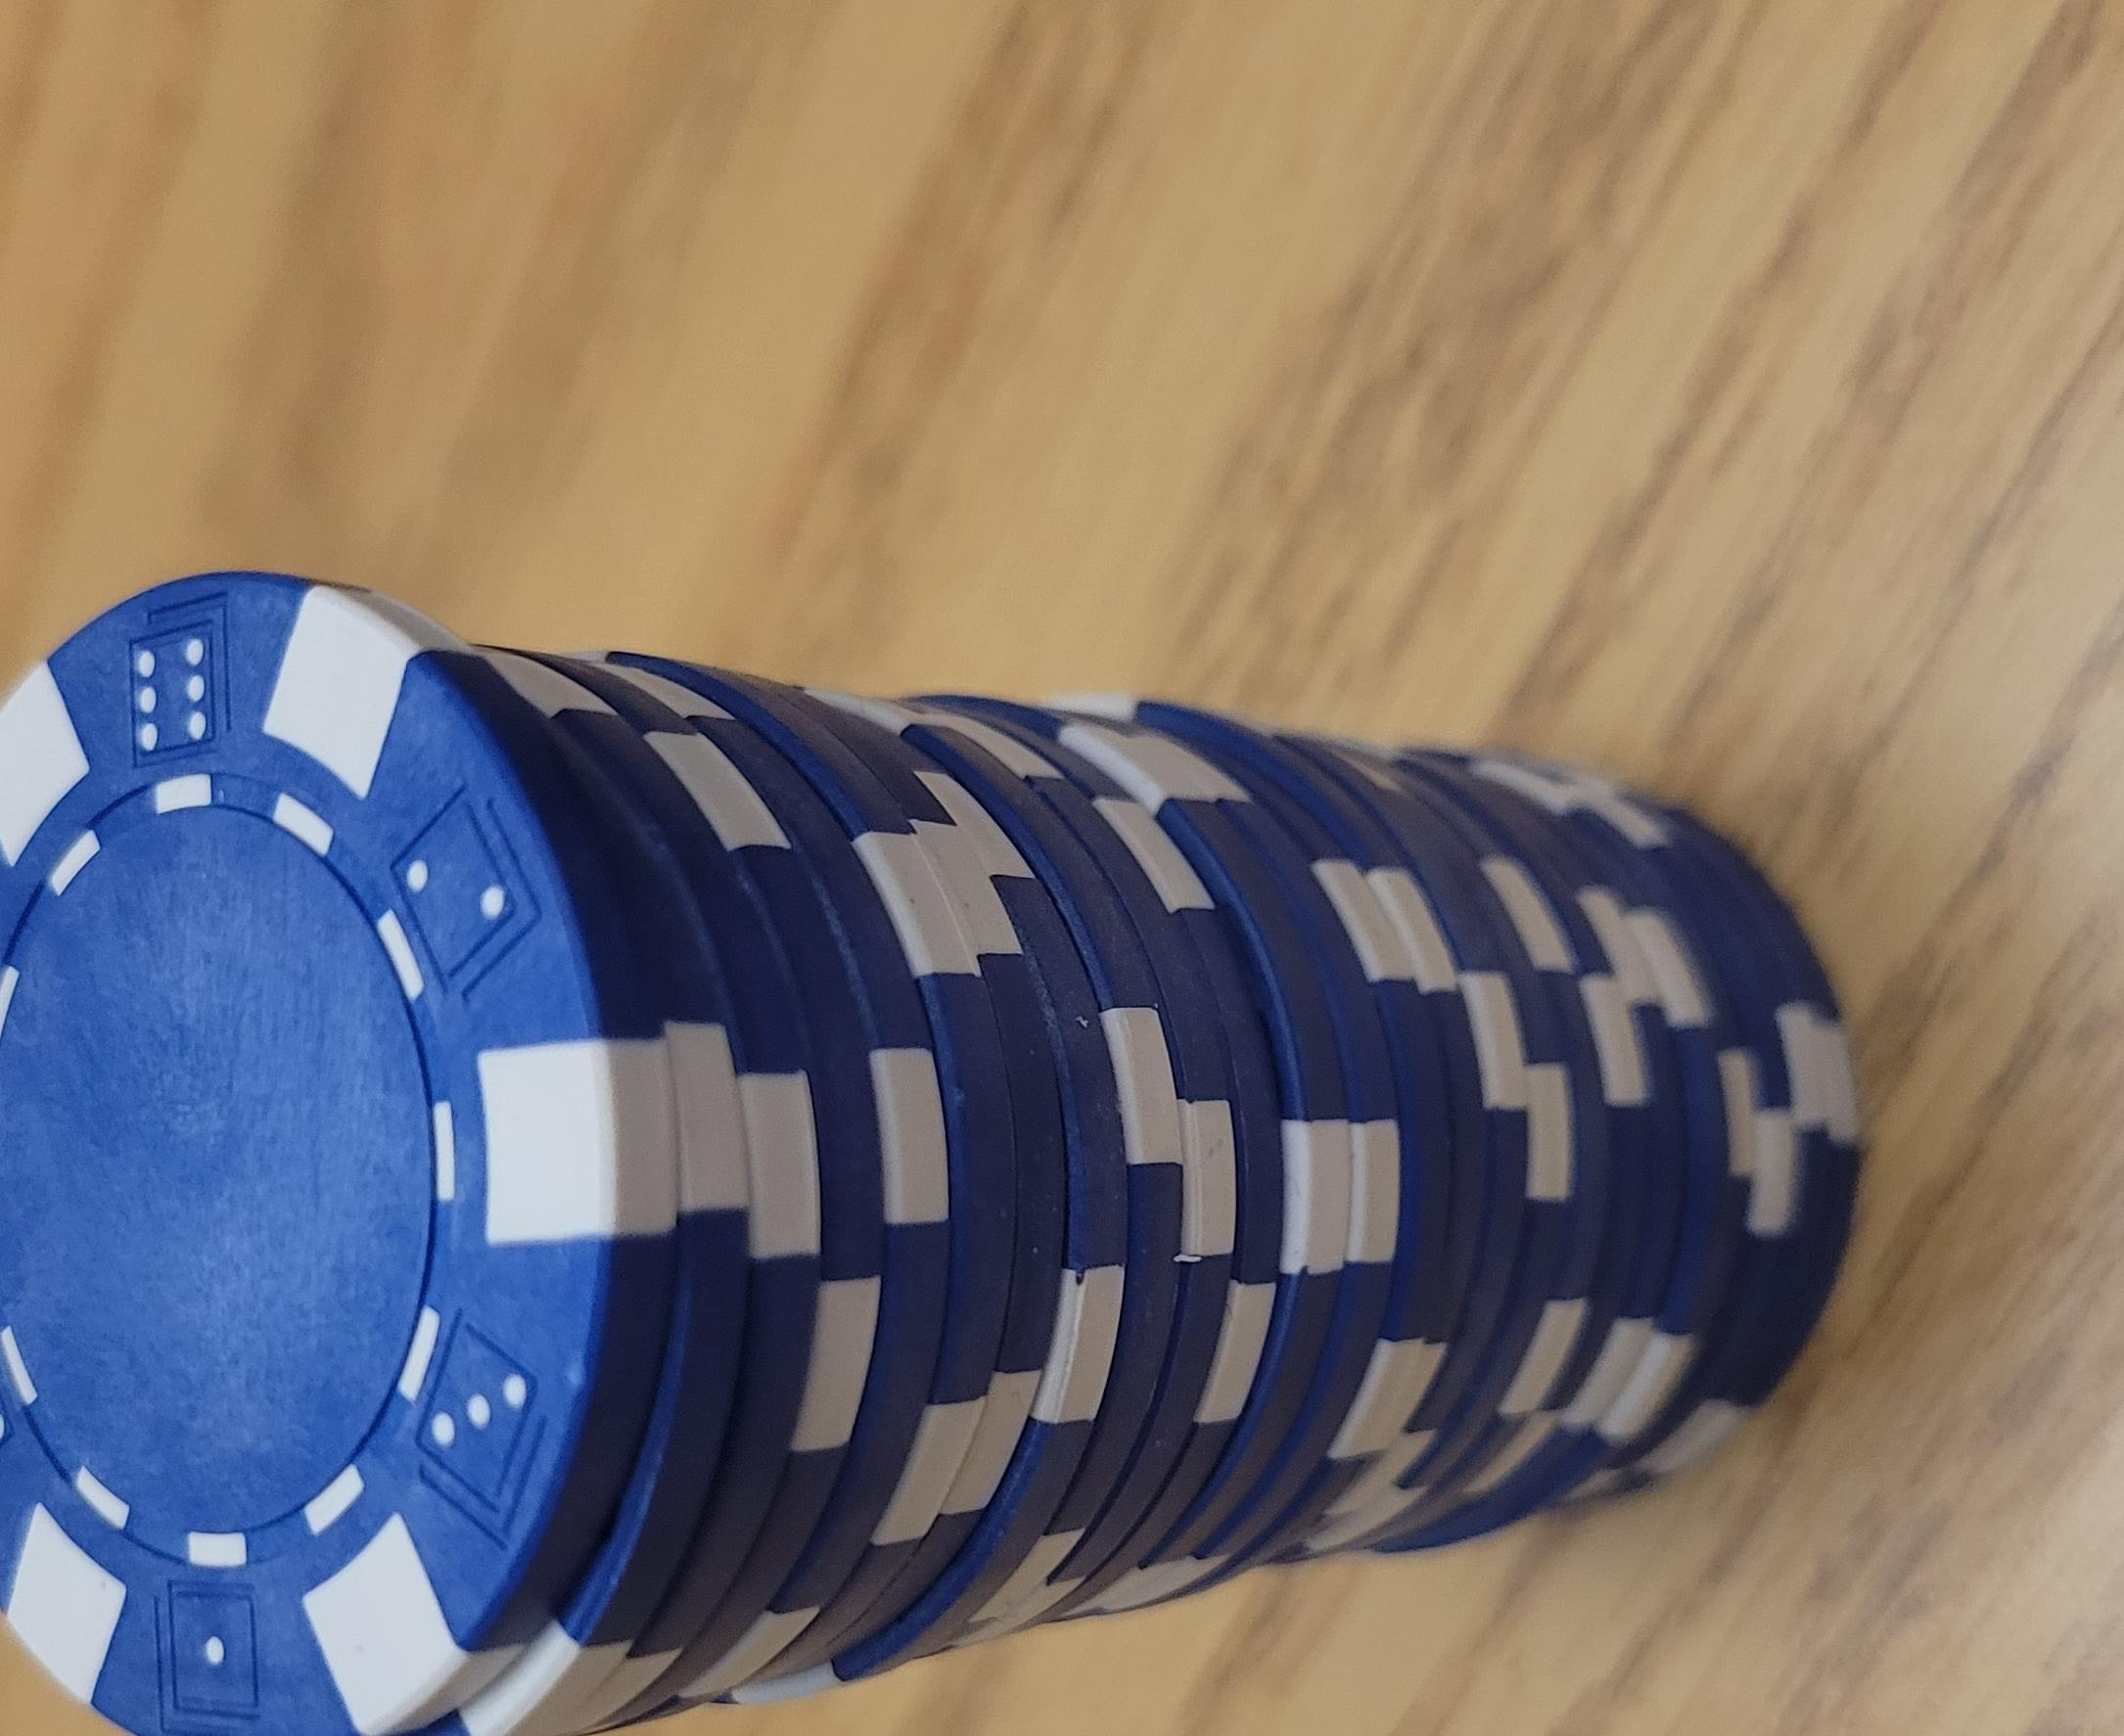Chip: (2, 120, 1387, 1736)
